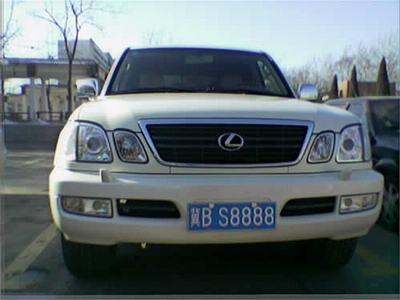plate_number: (188, 201, 278, 230)
